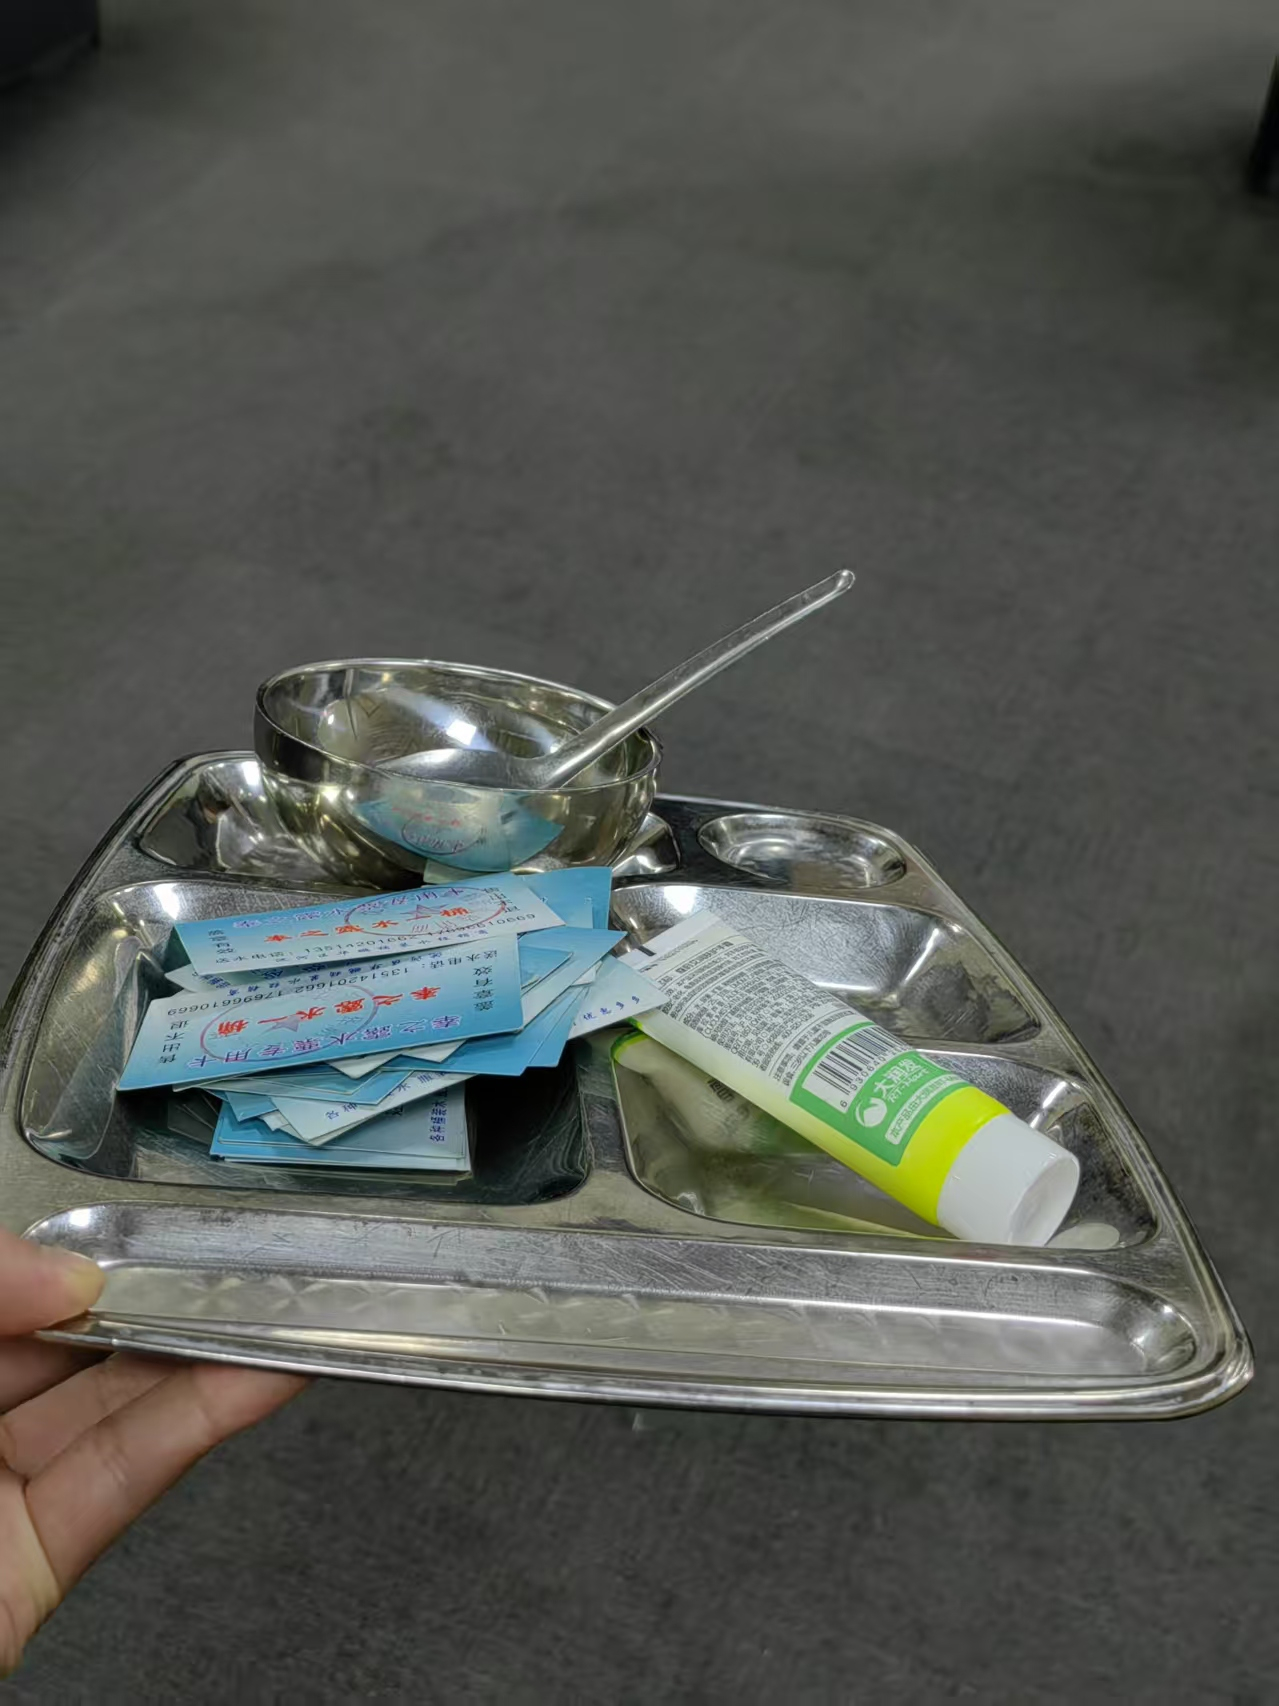moderate: (111, 864, 1085, 1252)
plate: (8, 747, 1262, 1426)
